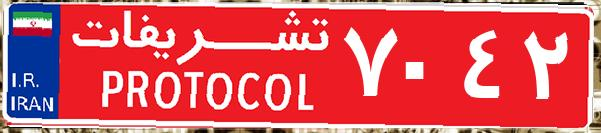0: (400, 20, 460, 115)
2: (520, 20, 580, 115)
4: (460, 20, 520, 115)
7: (340, 20, 400, 115)
تشریفات: (60, 8, 340, 125)
